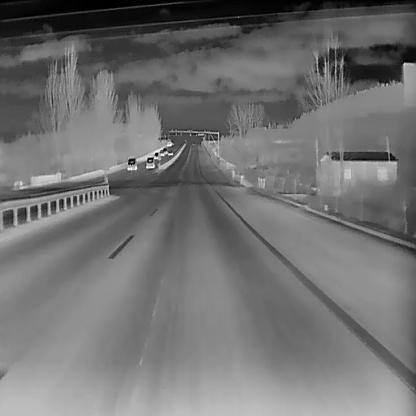car: (126, 156, 137, 170), (146, 156, 155, 167), (153, 151, 160, 159), (159, 149, 165, 156), (162, 146, 168, 153), (167, 149, 173, 155)
